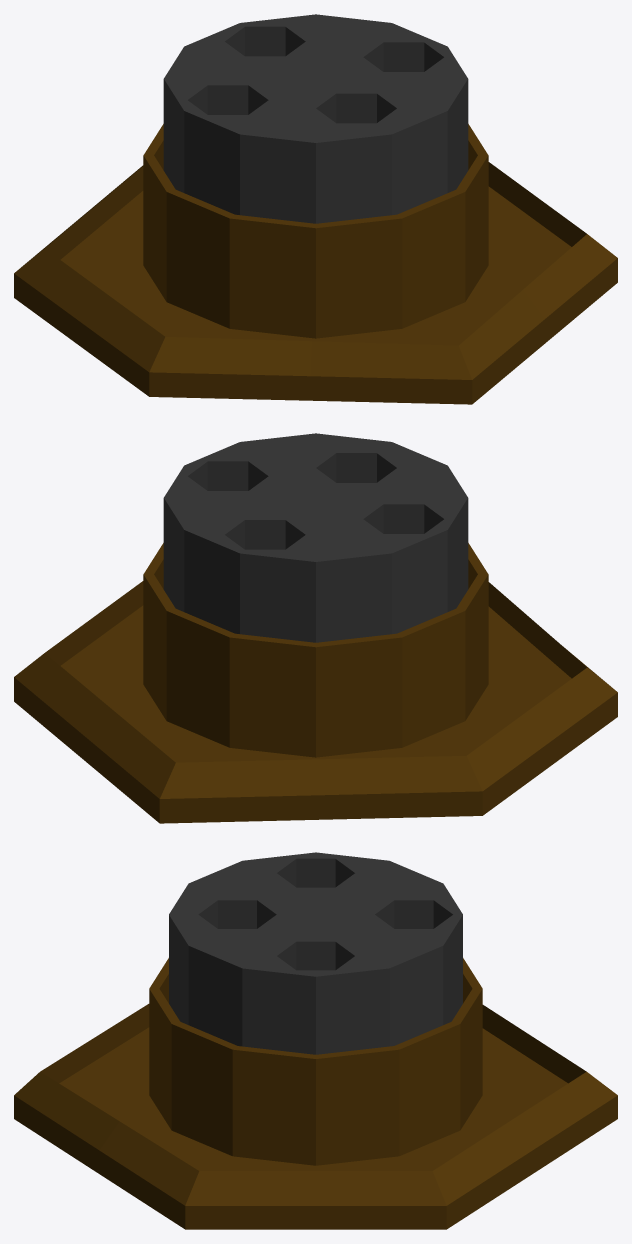
Rendered from centrifuge.fbx.
The picture shows the model from 3 angles, top to bottom: view 1: azimuth 30°, elevation 25°; view 2: azimuth 150°, elevation 25°; view 3: azimuth 270°, elevation 25°; orthographic projection. The views are drawn at different scales.
Visible parts, largest first — view 1: Centrifuge Base, Centrifuge, Centrifuge Border; view 2: Centrifuge Base, Centrifuge, Centrifuge Border; view 3: Centrifuge Base, Centrifuge, Centrifuge Border.
Part boxes in pixels (<box>): Centrifuge Base: <box>14,162,617,404</box>; Centrifuge: <box>163,14,468,223</box>; Centrifuge Border: <box>143,124,488,338</box>; Centrifuge Base: <box>14,581,617,823</box>; Centrifuge: <box>163,433,468,642</box>; Centrifuge Border: <box>143,543,488,757</box>; Centrifuge Base: <box>14,1004,617,1229</box>; Centrifuge: <box>169,852,462,1054</box>; Centrifuge Border: <box>149,958,482,1165</box>.
Size of the model in its own units: 200 by 86.25 by 231.
